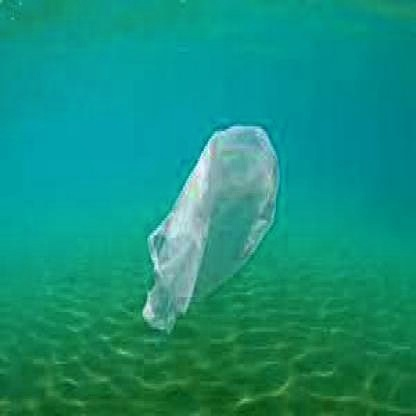pbag: (143, 124, 280, 337)
